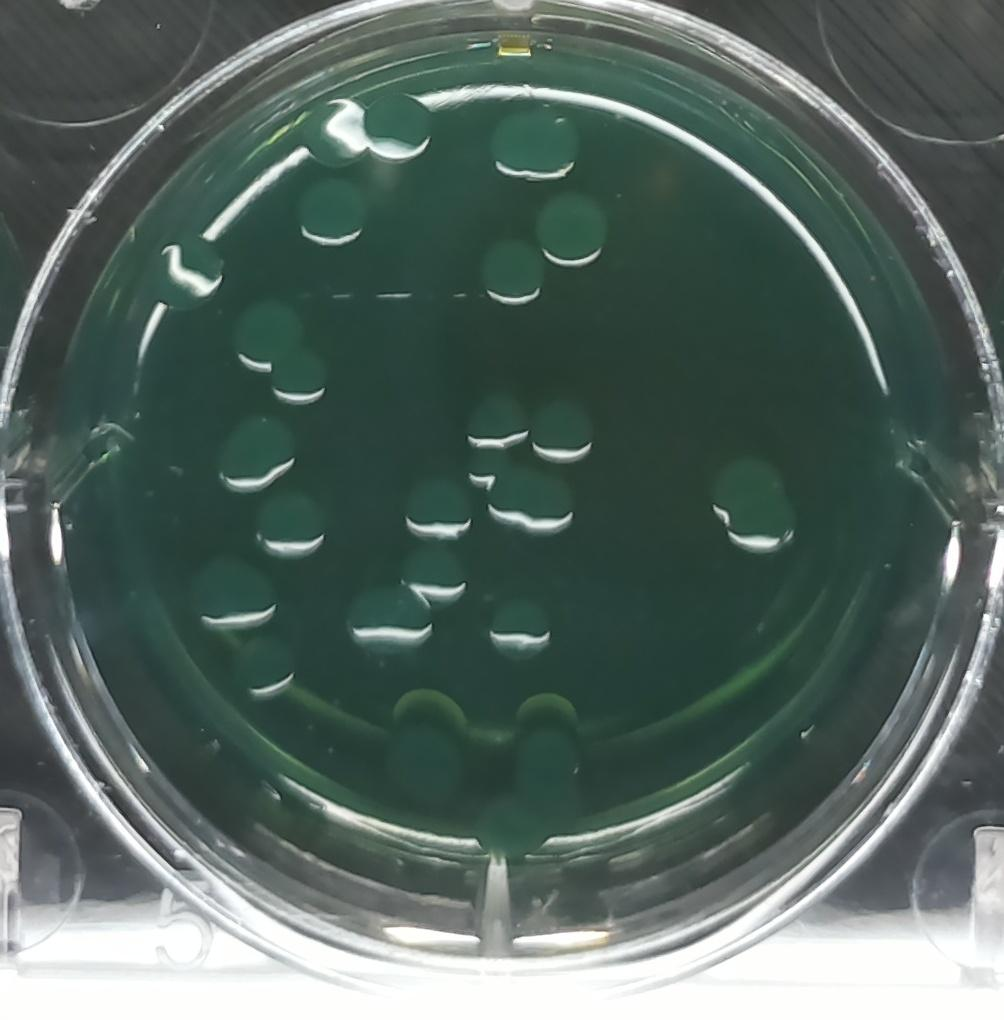vproteolyticus: (379, 683, 475, 803), (298, 89, 435, 170), (711, 446, 804, 564), (486, 96, 582, 186), (208, 407, 298, 497), (185, 551, 279, 632), (508, 695, 585, 786), (342, 581, 435, 655), (533, 187, 612, 269), (143, 234, 225, 312), (475, 783, 553, 863), (291, 178, 372, 254), (489, 468, 578, 537), (233, 300, 306, 375), (403, 466, 476, 540), (256, 490, 330, 563), (486, 589, 558, 662), (229, 629, 302, 700), (530, 394, 600, 466), (478, 237, 544, 309), (401, 544, 471, 611), (266, 349, 336, 412), (463, 387, 529, 451)
